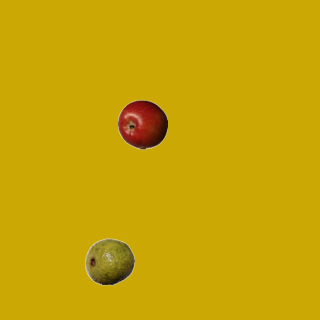Apple Braeburn: (117, 99, 167, 149)
Guava: (84, 236, 134, 286)
